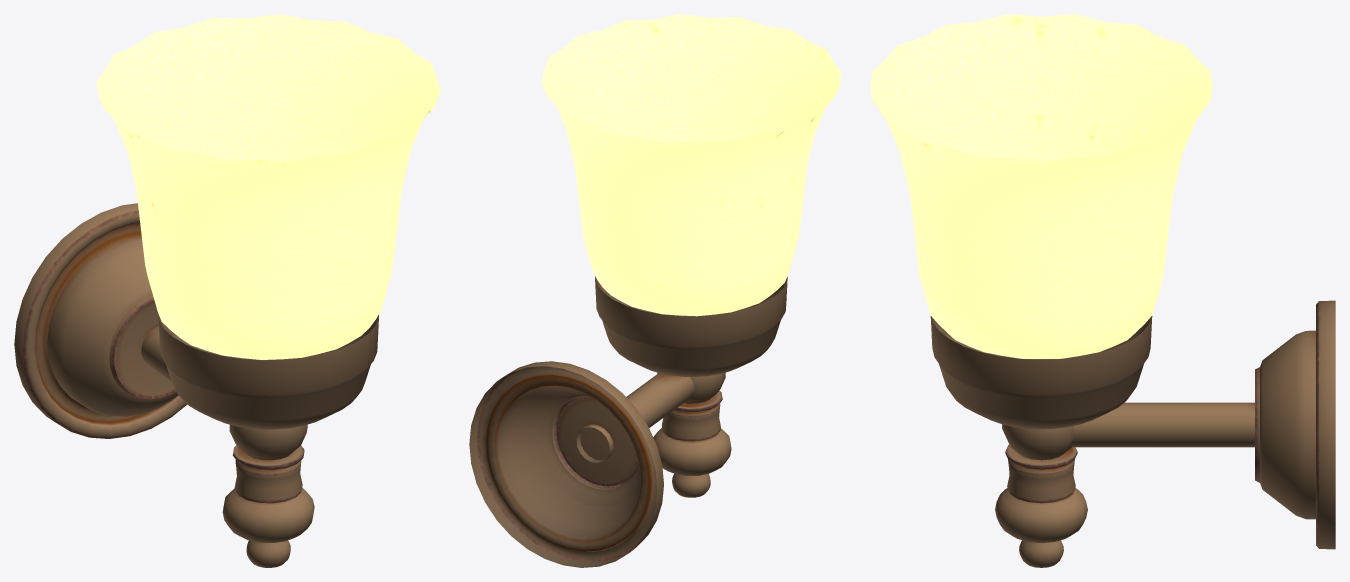
The model's file is lamp.glb.
The picture shows the model from 3 angles, left to right: view 1: azimuth 30°, elevation 25°; view 2: azimuth 150°, elevation 25°; view 3: azimuth 270°, elevation 25°; orthographic projection. The views are drawn at different scales.
Parts seen in each view (by area): view 1: lamp2.001; view 2: lamp2.001; view 3: lamp2.001.
Boxes of the visible parts, <box> form: lamp2.001: <box>14,14,440,567</box>; lamp2.001: <box>469,14,841,567</box>; lamp2.001: <box>870,14,1335,567</box>.
Bounding box in the file's own units: 1.47 × 2.26 × 1.99.
1 material, 1 textured.
